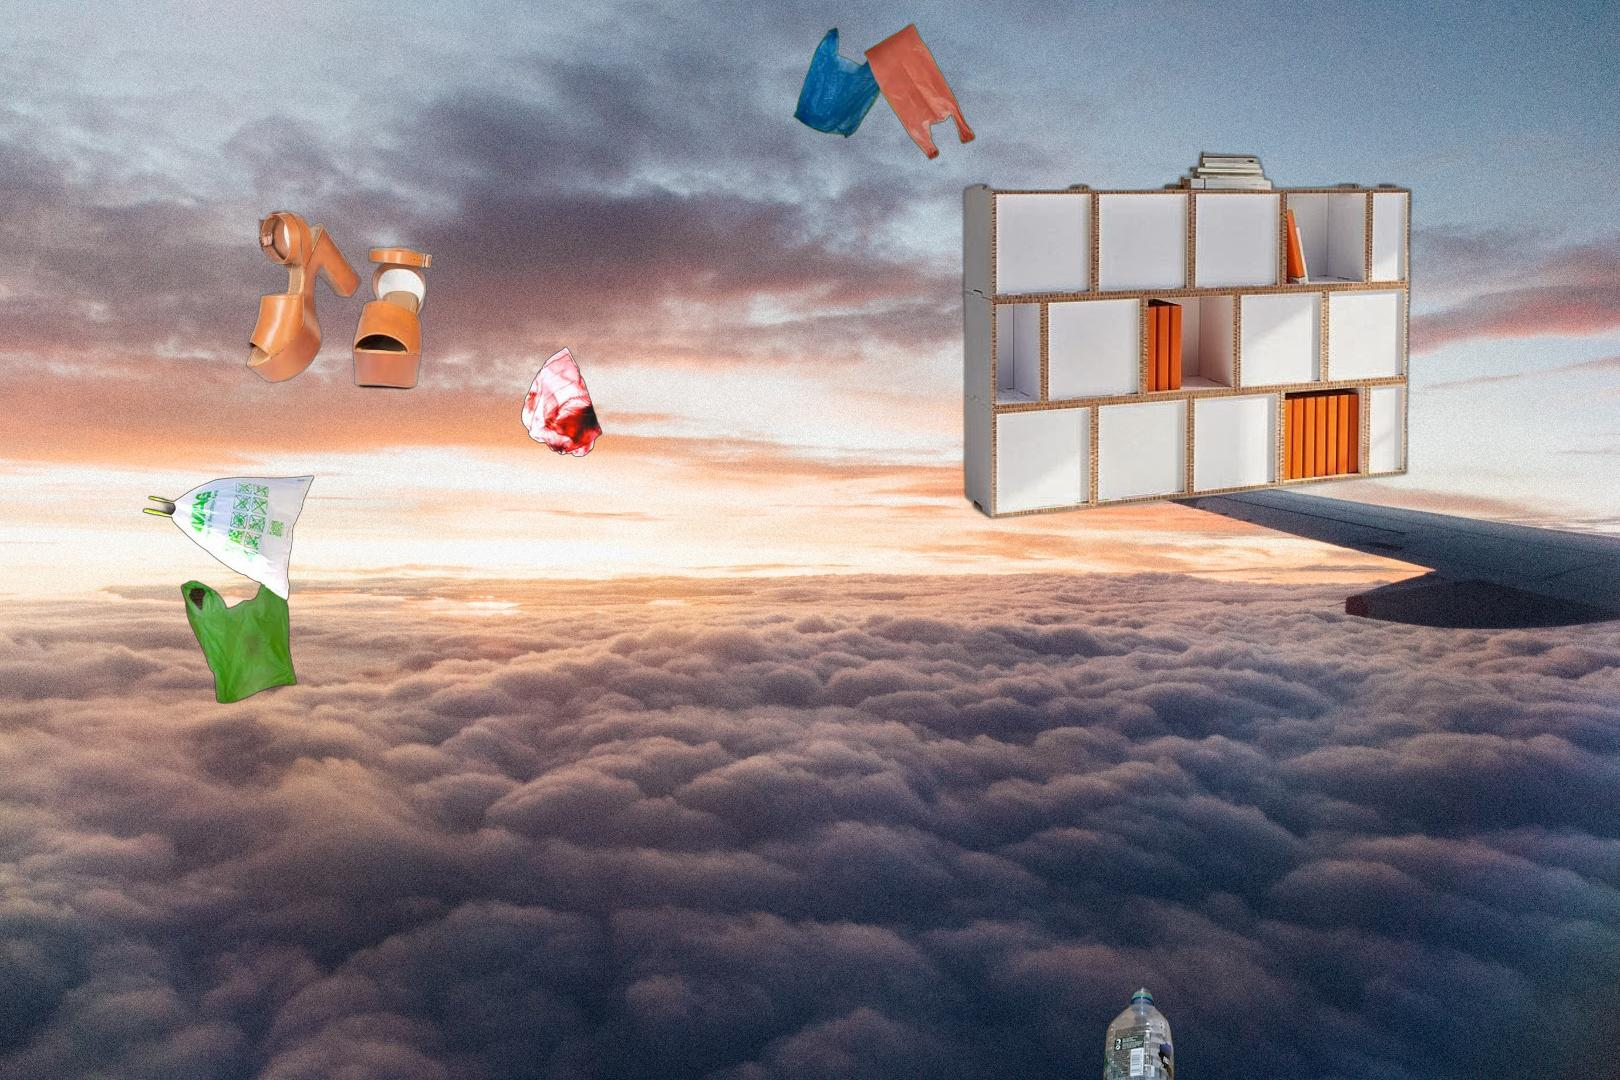plastic-bag: (140, 472, 317, 706), (788, 22, 978, 163), (518, 346, 604, 460)
plastic-bottles: (1094, 981, 1179, 1080)
shoes: (243, 209, 438, 392)
trashbox-cardboard: (956, 147, 1417, 522)
